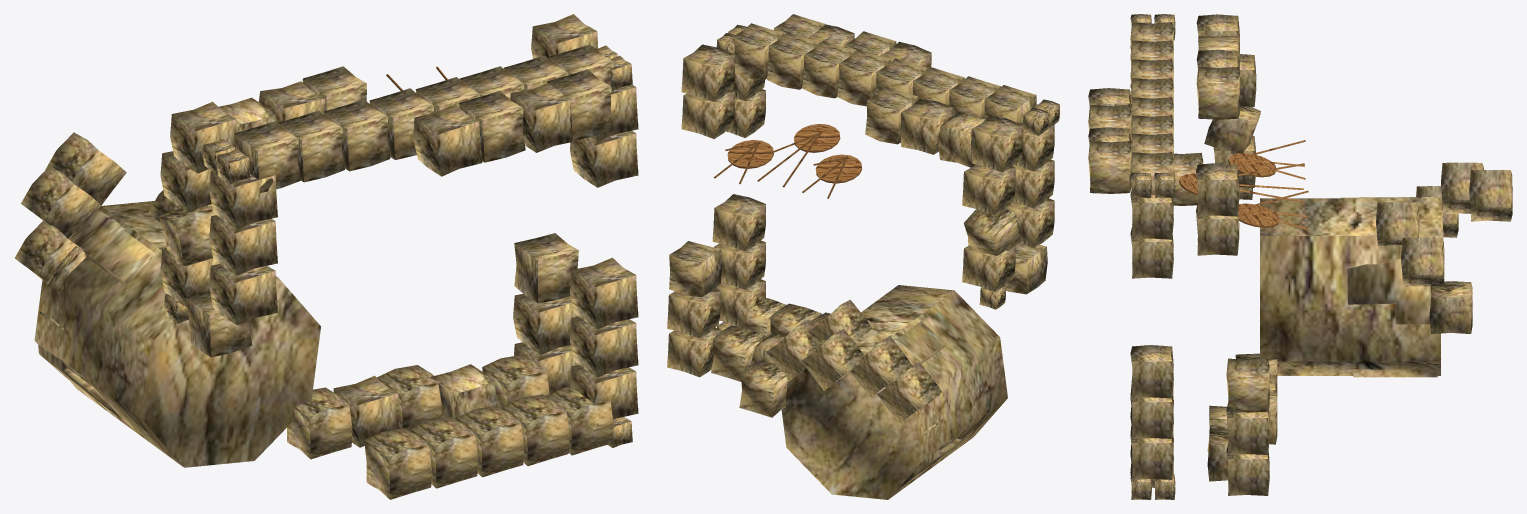
Rendered from archery_000009.obj.
3 views of the same model, side by side, from view 1: azimuth 30°, elevation 25°; view 2: azimuth 150°, elevation 25°; view 3: azimuth 270°, elevation 25° (orthographic). The views are drawn at different scales.
Parts seen in each view (by area): view 1: Cylinder.003, Cylinder.054_Cylinder.062, Cylinder.053_Cylinder.061, Cylinder.000, Cylinder.018, Cylinder.029, Cylinder.013, Cylinder.010, Cylinder.046_Cylinder.052, Cylinder.019, Cylinder.001, Cylinder.002 (+34 smaller); view 2: Cylinder.003, Cylinder.054_Cylinder.062, Cylinder.055_Cylinder.063, Cylinder.013, Cylinder.018, Cylinder.014, Cylinder.043_Cylinder.049, Cylinder.042_Cylinder.048, Cylinder.027, Cylinder.012, Cylinder.044_Cylinder.050, Cylinder.006 (+34 smaller); view 3: Cylinder.003, Cylinder.055_Cylinder.063, Cylinder.053_Cylinder.061, Cylinder.054_Cylinder.062, Cylinder.013, Cylinder.014, Cylinder.028, Cylinder.034, Cylinder.018, Cylinder.012, Cylinder.016, Cylinder.020 (+28 smaller).
Part boxes in pixels (x1,y1,x2,y2): Cylinder.003: [34, 201, 320, 467]; Cylinder.054_Cylinder.062: [14, 132, 126, 293]; Cylinder.053_Cylinder.061: [38, 209, 155, 418]; Cylinder.000: [364, 428, 431, 499]; Cylinder.018: [570, 257, 638, 329]; Cylinder.029: [413, 104, 482, 176]; Cylinder.013: [514, 233, 578, 303]; Cylinder.010: [287, 387, 352, 459]; Cylinder.046_Cylinder.052: [209, 264, 277, 325]; Cylinder.019: [570, 316, 638, 377]; Cylinder.001: [410, 416, 478, 488]; Cylinder.002: [456, 405, 523, 477]; Cylinder.003: [781, 285, 1007, 499]; Cylinder.054_Cylinder.062: [801, 329, 941, 423]; Cylinder.055_Cylinder.063: [739, 299, 872, 417]; Cylinder.013: [669, 241, 722, 297]; Cylinder.018: [712, 194, 765, 251]; Cylinder.014: [681, 44, 734, 101]; Cylinder.043_Cylinder.049: [970, 115, 1023, 172]; Cylinder.042_Cylinder.048: [962, 164, 1015, 215]; Cylinder.027: [901, 99, 952, 154]; Cylinder.012: [667, 289, 720, 338]; Cylinder.044_Cylinder.050: [964, 208, 1020, 255]; Cylinder.006: [711, 325, 764, 381]; Cylinder.003: [1260, 198, 1440, 375]; Cylinder.055_Cylinder.063: [1376, 202, 1472, 333]; Cylinder.053_Cylinder.061: [1340, 197, 1443, 377]; Cylinder.054_Cylinder.062: [1416, 162, 1512, 237]; Cylinder.013: [1226, 358, 1269, 412]; Cylinder.014: [1196, 163, 1239, 216]; Cylinder.028: [1196, 66, 1239, 119]; Cylinder.034: [1088, 141, 1131, 193]; Cylinder.018: [1130, 345, 1173, 398]; Cylinder.012: [1226, 403, 1269, 454]; Cylinder.016: [1130, 191, 1173, 239]; Cylinder.020: [1130, 428, 1173, 479].
Size of the model in its own units: 9.16 by 7.81 by 9.2.
